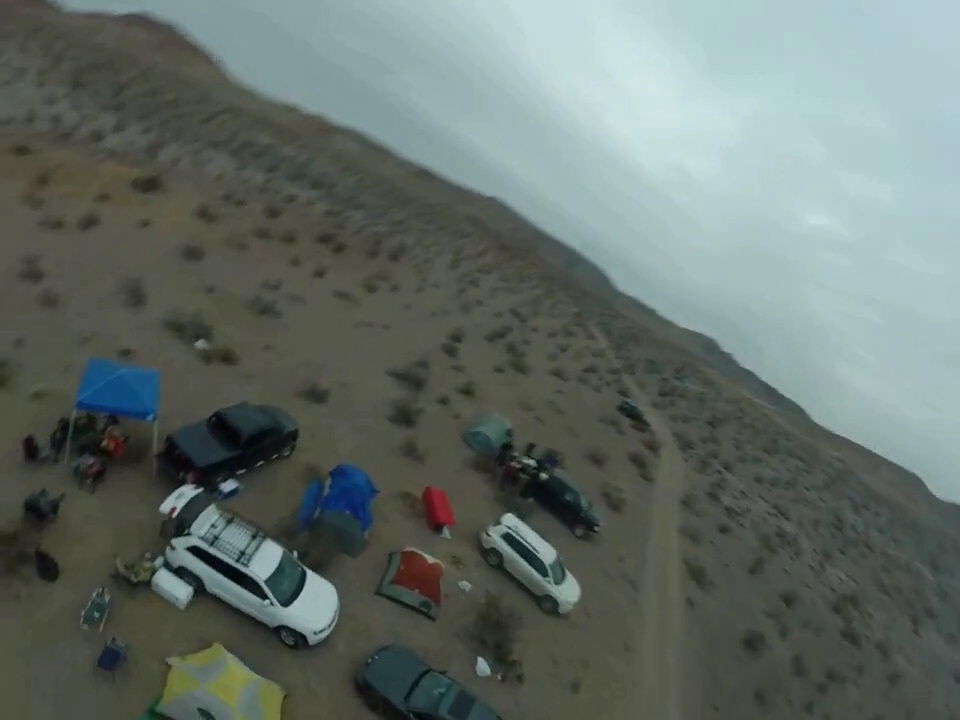araba: (162, 500, 345, 647), (162, 396, 302, 492), (355, 639, 503, 720), (481, 512, 587, 617)
